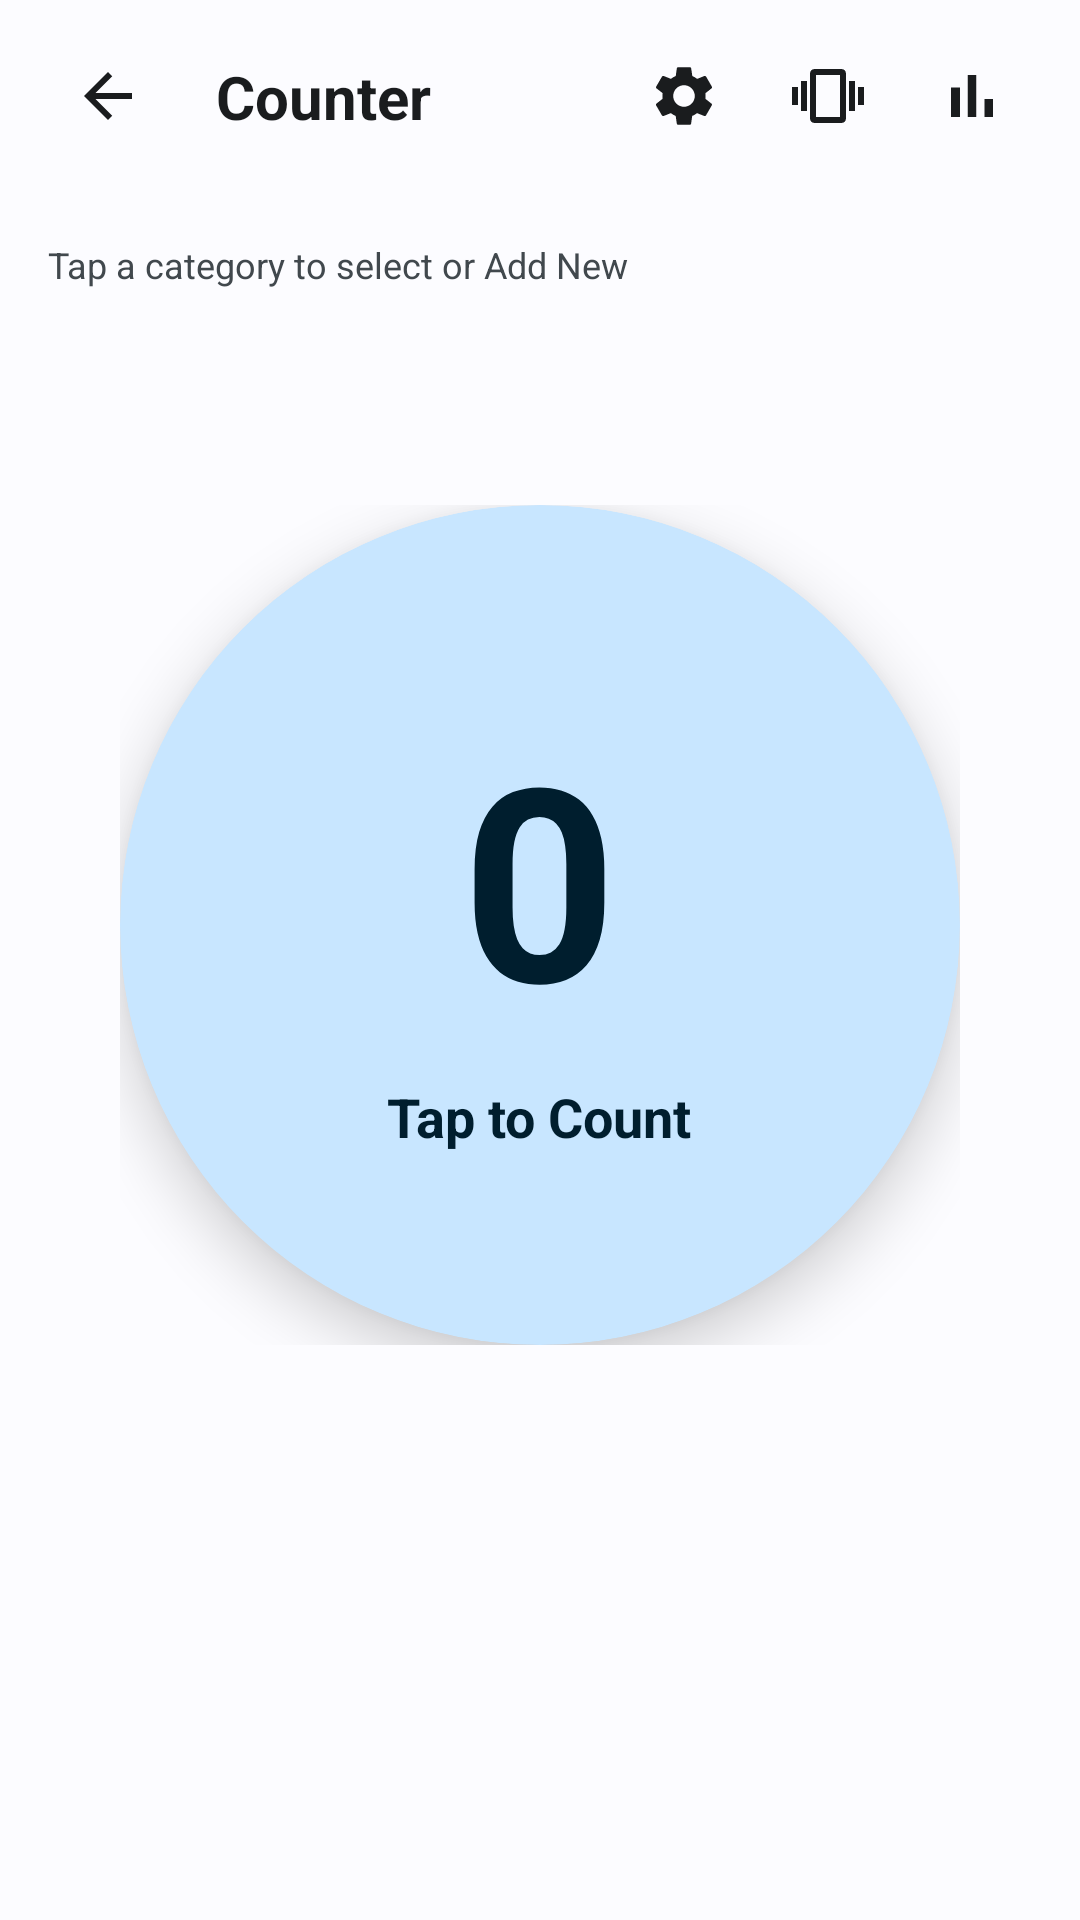

Where icons sit on this 1080w x 1920h app screen, as (x1, y1, x2, y2):
Back: (84, 72, 132, 120)
Settings: (656, 67, 712, 125)
Stats: (951, 75, 993, 117)
Toggle Vibration: (792, 69, 864, 123)
